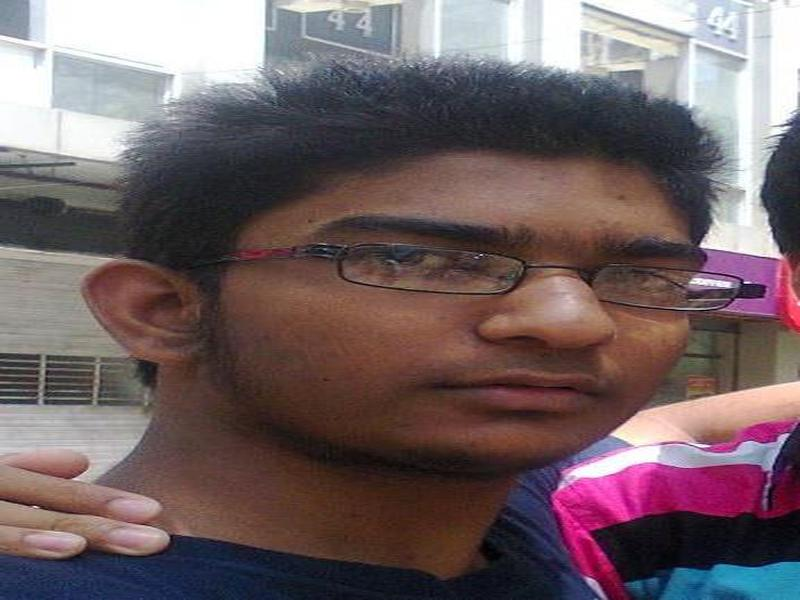without_mask: (231, 150, 700, 467)
